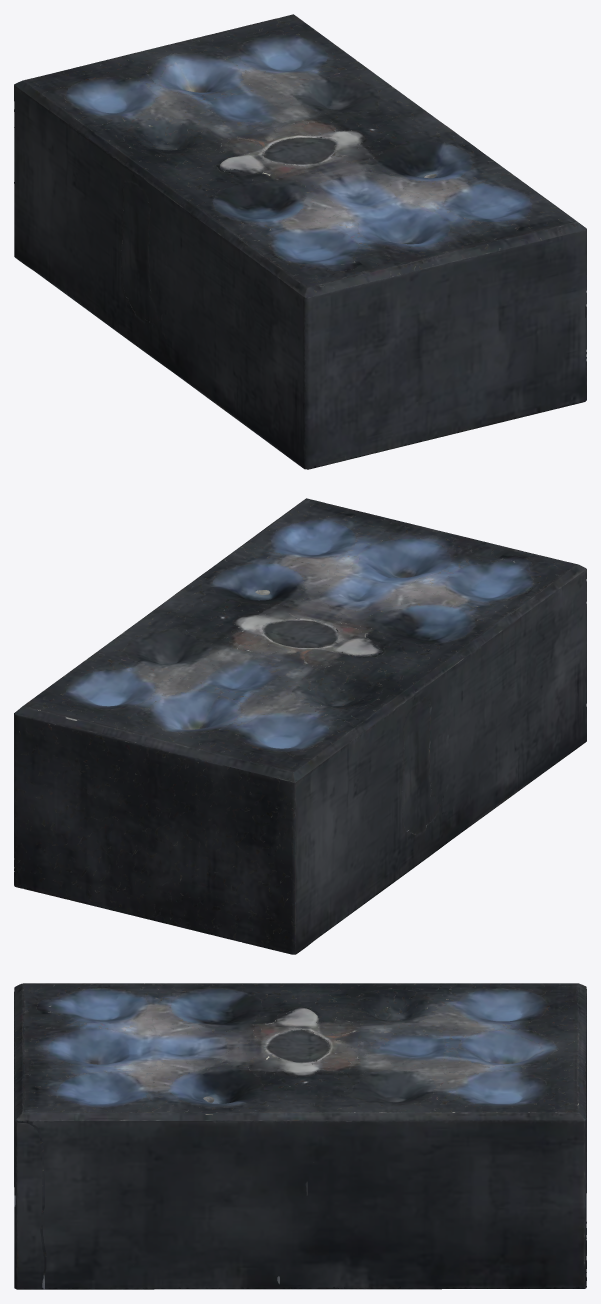
Rendered from bathroom_back_wall.raw.glb.
3 renders of one model, top to bottom at view 1: azimuth 30°, elevation 25°; view 2: azimuth 150°, elevation 25°; view 3: azimuth 270°, elevation 25°, orthographic. The views are drawn at different scales.
Visible parts, largest first — view 1: world; view 2: world; view 3: world.
Part boxes in pixels (bbox=[...]): world: bbox=[14, 14, 586, 469]; world: bbox=[14, 498, 586, 954]; world: bbox=[14, 983, 586, 1289].
Bounding box in the file's own units: 0.5583 × 0.3407 × 0.9999.
1 material, 1 textured.
